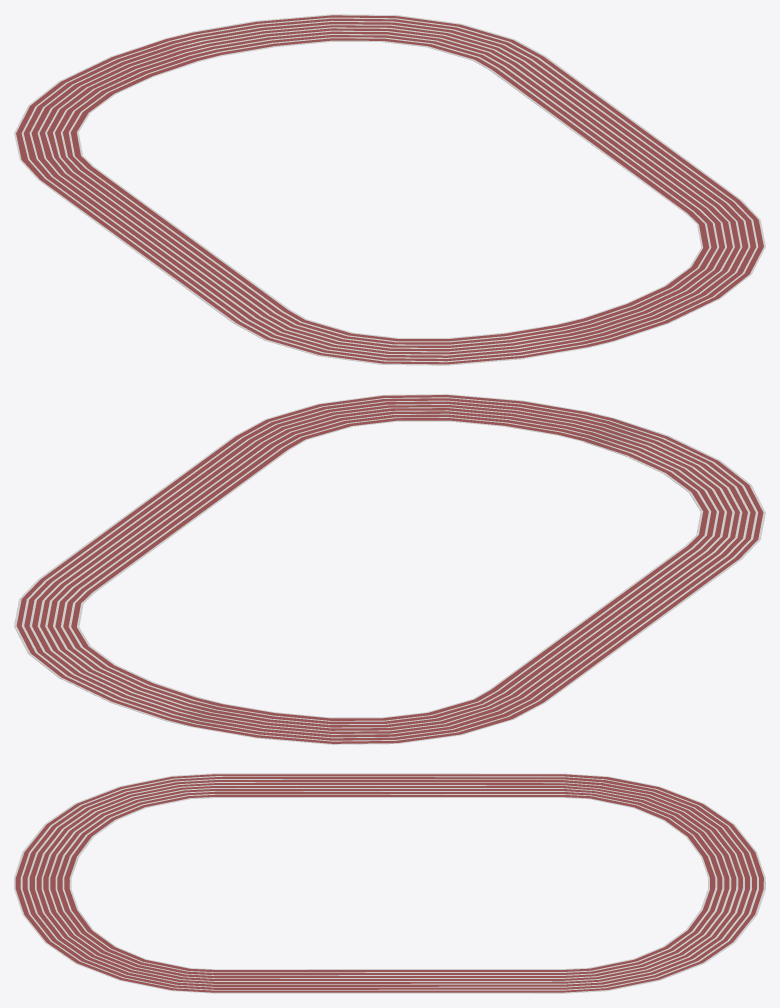
File: Track Basic.fbx
The picture shows the model from 3 angles, top to bottom: view 1: azimuth 30°, elevation 25°; view 2: azimuth 150°, elevation 25°; view 3: azimuth 270°, elevation 25°; orthographic projection. The views are drawn at different scales.
Parts seen in each view (by area): view 1: Track Basic; view 2: Track Basic; view 3: Track Basic.
Part boxes in pixels (x1,y1,x2,y2): Track Basic: (14,14,765,365); Track Basic: (14,394,765,744); Track Basic: (14,773,765,993).
Size of the model in its own units: 40121 by 33.21 by 57892.
